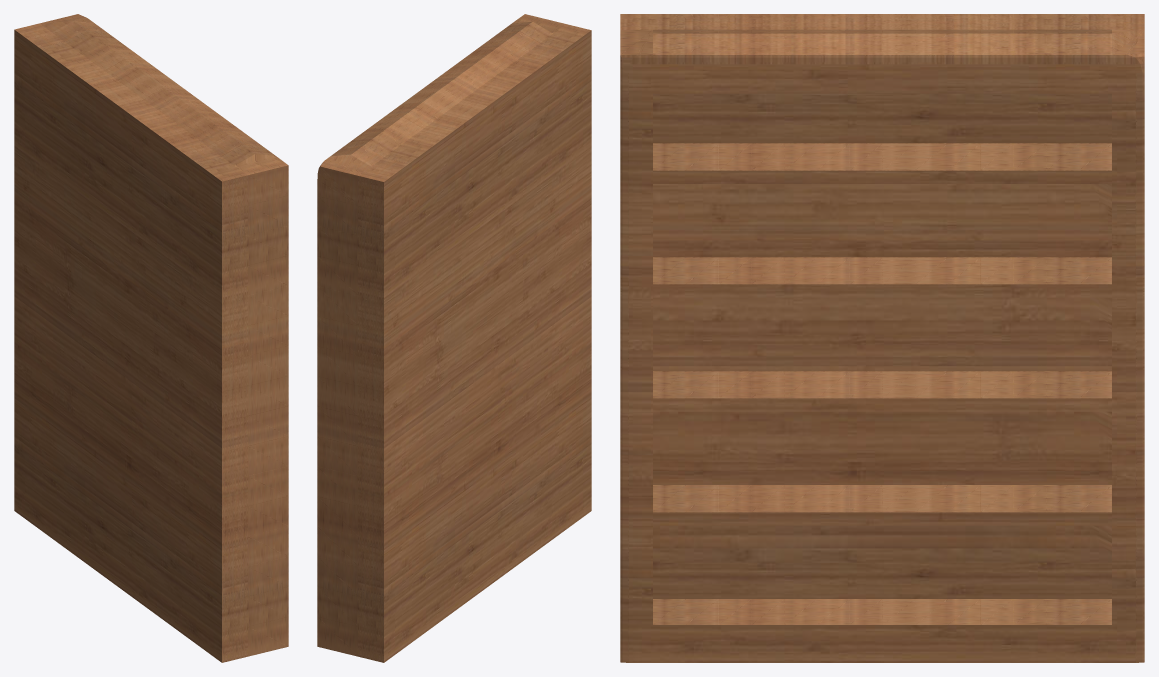
File: bookshelf2.fbx
3 views of the same model, side by side, from view 1: azimuth 30°, elevation 25°; view 2: azimuth 150°, elevation 25°; view 3: azimuth 270°, elevation 25° (orthographic). The views are drawn at different scales.
Visible parts, largest first — view 1: Cube; view 2: Cube; view 3: Cube.
Boxes of the visible parts, x1,y1,x2,y2 form: Cube: [14, 14, 288, 662]; Cube: [317, 14, 591, 662]; Cube: [620, 14, 1144, 662].
Bounding box in the file's own units: 46.96 × 316 × 244.
1 material, 1 textured.
